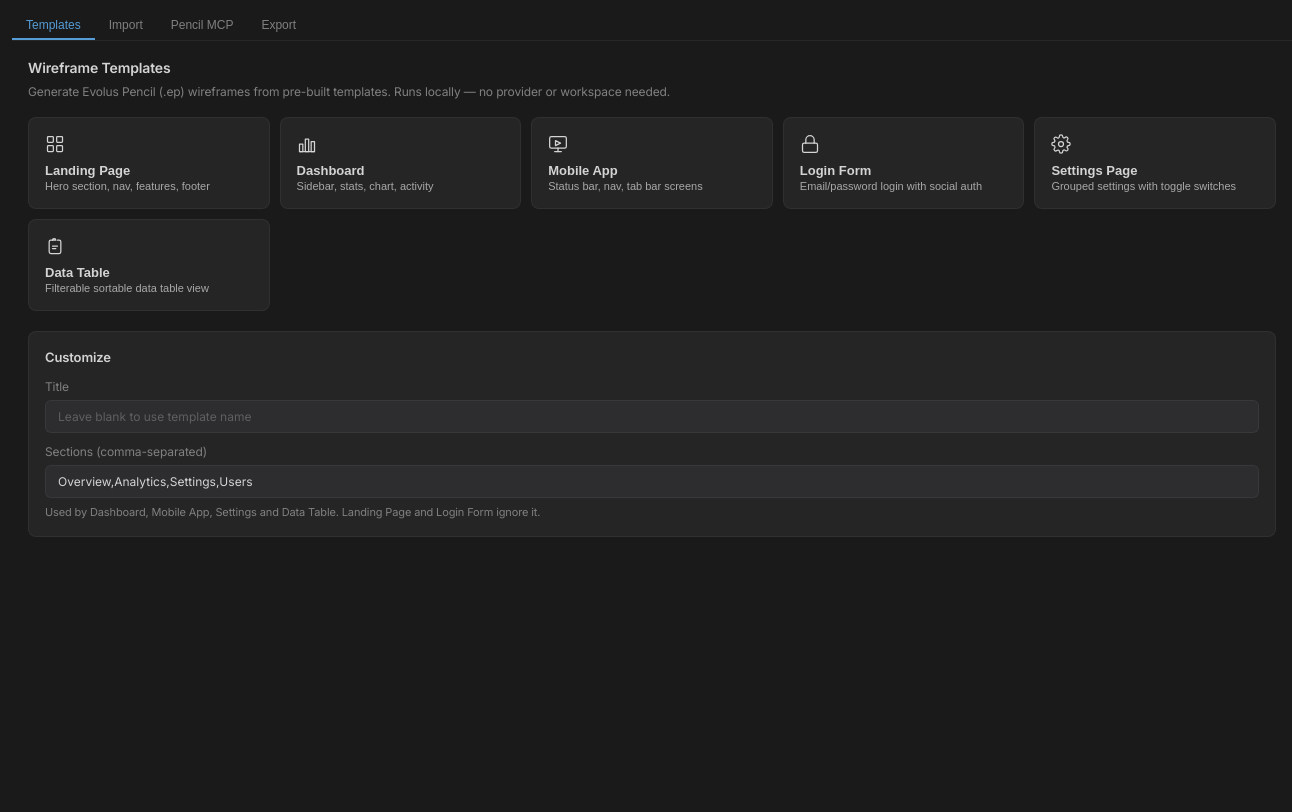
PencilPanel - Templates › sends the clicked template id and reports the counts the backend returned
The width and height of the screenshot is (1292, 812).
Click the button with aria-label "Generate Login Form wireframe" at (904, 163), box [783, 117, 1024, 209]
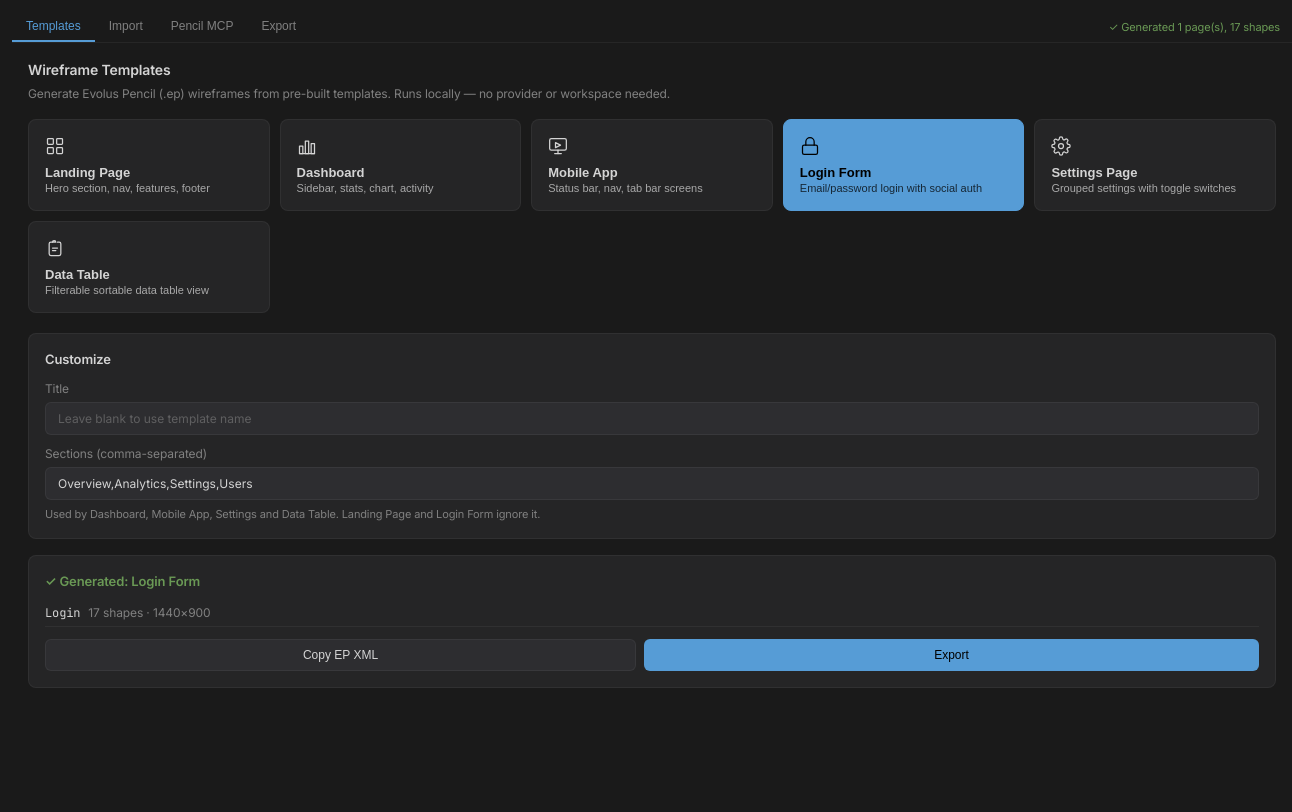
Expected: the text "Login Form" is shown, [800, 165, 871, 180]
Expected: the text "✓ Generated: Login Form" is shown, [45, 573, 200, 589]
Expected: the text "17 shapes · 1440×900" is shown, [88, 605, 210, 620]
